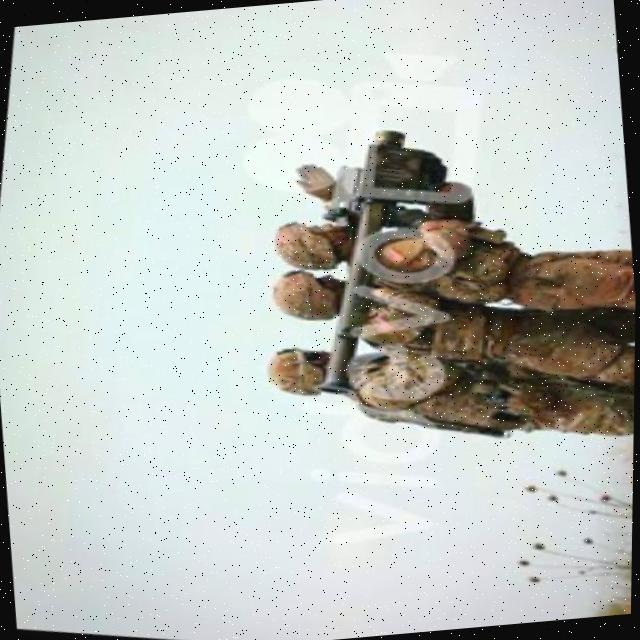rocket: (289, 117, 474, 410)
